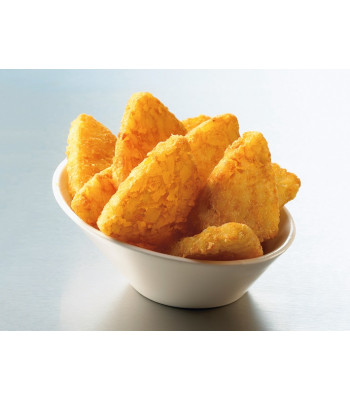triangle_hash_brown: (80, 101, 284, 250)
